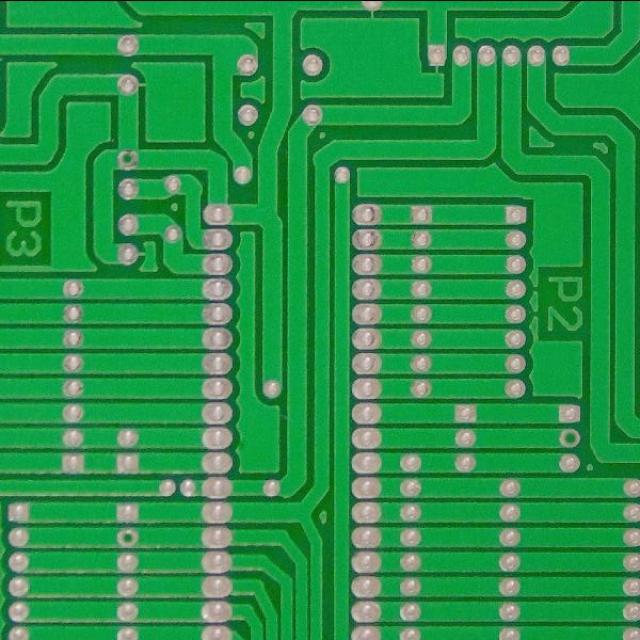Missing_Hole: (113, 525, 141, 549), (115, 147, 141, 171), (558, 427, 582, 449)
